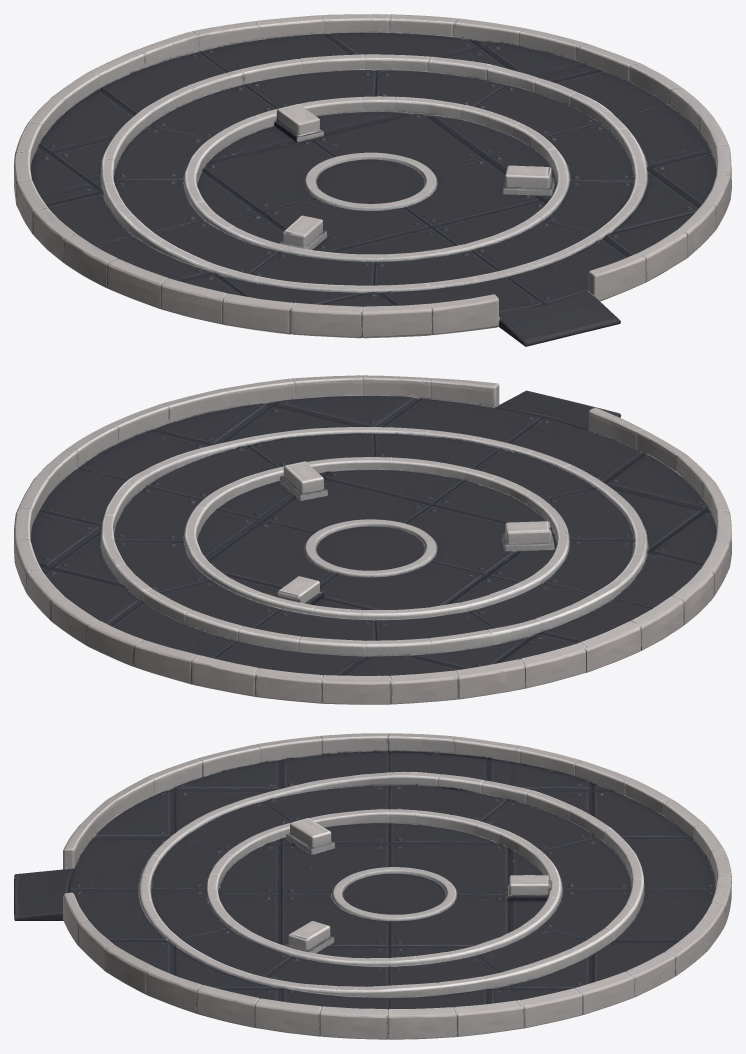
File: Nivel5_SOL_A_Terrazas.glb
3 views of the same model, one above another, from view 1: azimuth 30°, elevation 25°; view 2: azimuth 150°, elevation 25°; view 3: azimuth 270°, elevation 25° (orthographic). The views are drawn at different scales.
Visible parts, largest first — view 1: Mesh_0; view 2: Mesh_0; view 3: Mesh_0.
Boxes of the visible parts, x1=… form: Mesh_0: x1=14, y1=14, x2=731, y2=346; Mesh_0: x1=14, y1=375, x2=731, y2=704; Mesh_0: x1=14, y1=733, x2=731, y2=1039.
Size of the model in its own units: 1.8 by 0.0855 by 1.92.
Materials: 1 (1 with a texture image).
